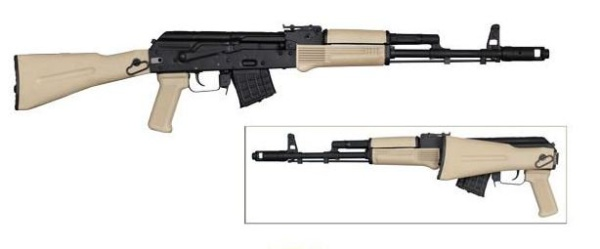ak47: (15, 23, 551, 134), (253, 135, 561, 216)
